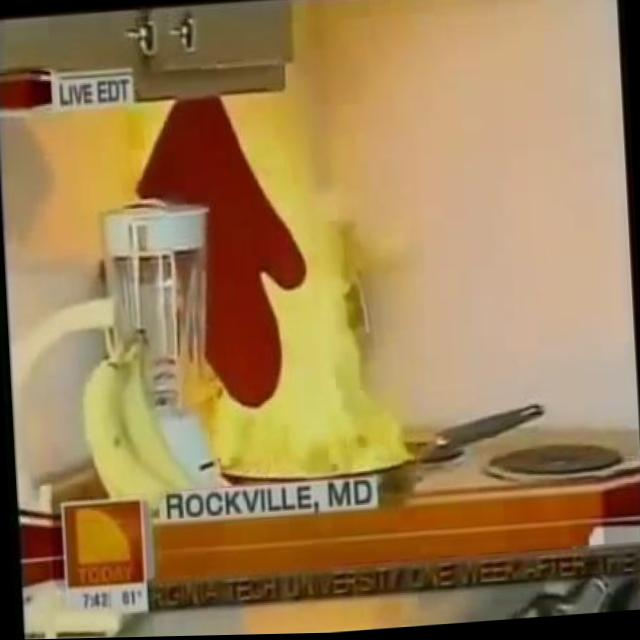fire: (184, 76, 418, 489)
